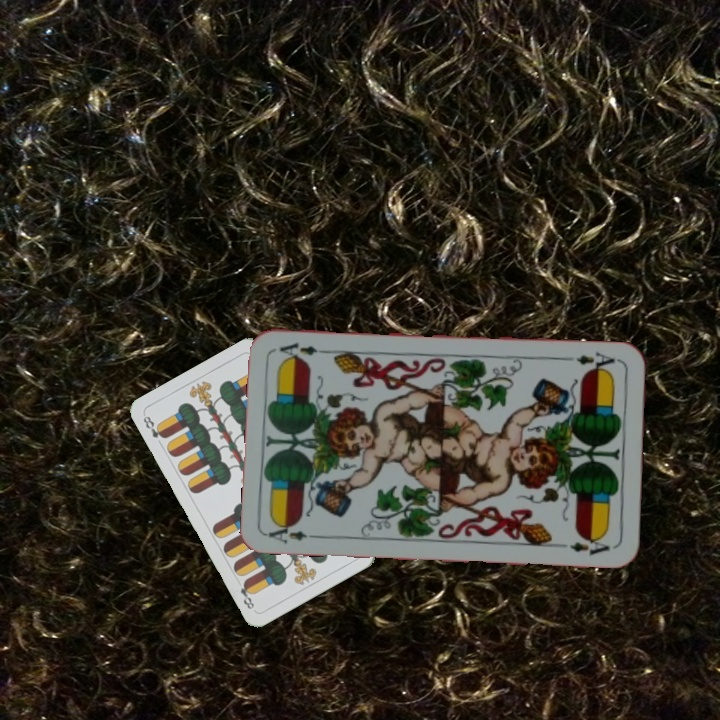E8: (139, 412, 169, 441)
EA: (563, 347, 622, 375), (264, 519, 323, 546)
